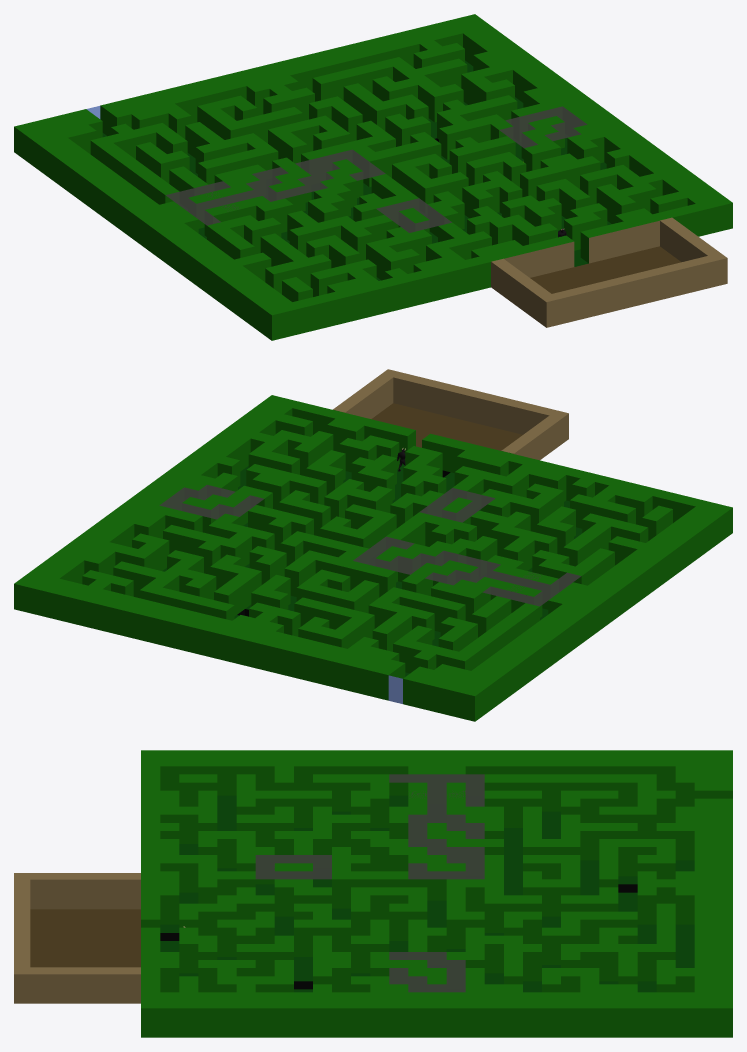
File: Laberinto Minotauro v1.2.fbx
3 renders of one model, top to bottom at view 1: azimuth 30°, elevation 25°; view 2: azimuth 150°, elevation 25°; view 3: azimuth 270°, elevation 25°, orthographic. The views are drawn at different scales.
Parts seen in each view (by area): view 1: Paredes, Suelo; view 2: Paredes, Suelo; view 3: Paredes, Suelo.
Part boxes in pixels (x1,y1,x2,y2): Paredes: [14, 14, 732, 340]; Suelo: [86, 60, 681, 293]; Paredes: [14, 369, 732, 721]; Suelo: [162, 403, 582, 703]; Paredes: [14, 750, 732, 1037]; Suelo: [30, 795, 694, 992].
Bounding box in the file's own units: 2600 × 238 × 3060.
